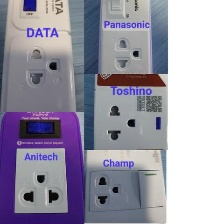three_eye_plug: (0, 109, 86, 223), (1, 0, 78, 112), (82, 146, 167, 224), (90, 71, 169, 153), (91, 0, 157, 75)
